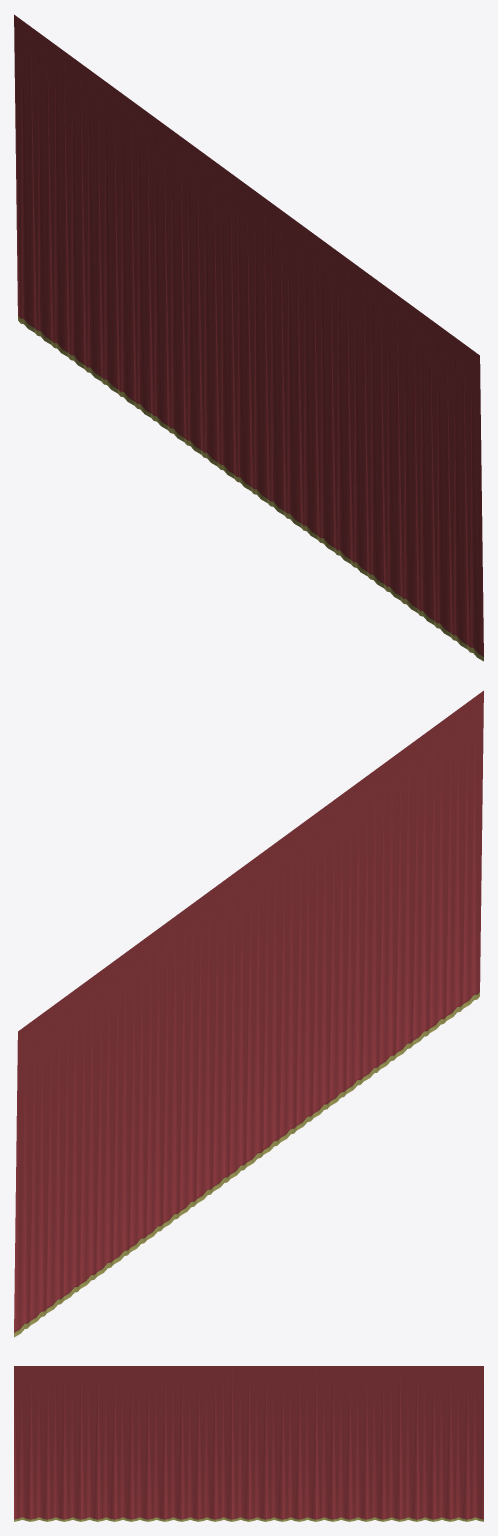
File: sceneDraco.gltf
3 views of the same model, one above another, from view 1: azimuth 30°, elevation 25°; view 2: azimuth 150°, elevation 25°; view 3: azimuth 270°, elevation 25° (orthographic). The views are drawn at different scales.
Parts seen in each view (by area): view 1: Stage Curtains; view 2: Stage Curtains; view 3: Stage Curtains.
Part boxes in pixels (bbox=[...]): Stage Curtains: bbox=[14, 14, 483, 661]; Stage Curtains: bbox=[14, 690, 483, 1337]; Stage Curtains: bbox=[14, 1366, 483, 1521].
Size of the model in its own units: 0.0834 by 6.2 by 17.07.
